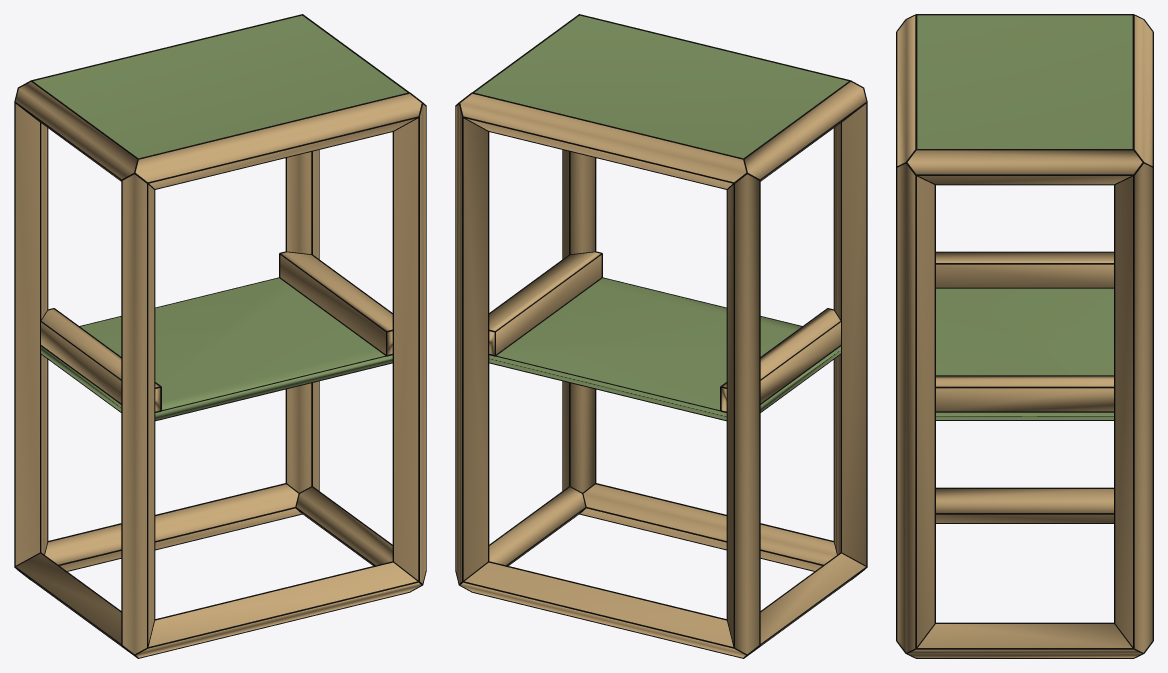
Rendered from bureau-500.glb.
The picture shows the model from 3 angles, left to right: view 1: azimuth 30°, elevation 25°; view 2: azimuth 150°, elevation 25°; view 3: azimuth 270°, elevation 25°; orthographic projection.
Parts seen in each view (by area): view 1: panneau-dessus_exterieur, tablette-plate-mod-0, arete-Z0, arete-Z1, arete-Z2, arete-X2, arete-X0, arete-X1, arete-Z3, tablette-traverse-right-mod-0, tablette-traverse-left-mod-0, arete-Y2 (+15 smaller); view 2: panneau-dessus_exterieur, tablette-plate-mod-0, arete-Z2, arete-Z3, arete-Z0, arete-X3, arete-X1, arete-X0, arete-Z1, tablette-traverse-right-mod-0, tablette-traverse-left-mod-0, arete-Y2 (+15 smaller); view 3: panneau-dessus_exterieur, arete-Z1, arete-Z3, tablette-plate-mod-0, arete-Y3, arete-Y1, tablette-traverse-left-mod-0, tablette-traverse-right-mod-0, arete-Y0, arete-wire-Z1, arete-wire-Z3, arete-X2 (+9 smaller).
Part boxes in pixels (box(x1,y1,x2,y2)): panneau-dessus_exterieur: box(33, 15, 407, 158); tablette-plate-mod-0: box(41, 278, 392, 420); arete-Z0: box(122, 174, 154, 654); arete-Z1: box(394, 104, 425, 583); arete-Z2: box(15, 104, 47, 565); arete-X2: box(135, 93, 421, 188); arete-X0: box(136, 562, 421, 657); arete-X1: box(45, 484, 301, 570); arete-Z3: box(287, 150, 318, 492); tablette-traverse-right-mod-0: box(280, 252, 392, 354); tablette-traverse-left-mod-0: box(41, 309, 160, 411); arete-Y2: box(15, 82, 137, 180); panneau-dessus_exterieur: box(474, 15, 848, 158); tablette-plate-mod-0: box(489, 278, 840, 420); arete-Z2: box(727, 174, 759, 654); arete-Z3: box(456, 104, 487, 583); arete-Z0: box(834, 104, 866, 565); arete-X3: box(460, 93, 746, 188); arete-X1: box(460, 562, 745, 657); arete-X0: box(580, 484, 836, 570); arete-Z1: box(563, 150, 594, 492); tablette-traverse-right-mod-0: box(489, 252, 601, 354); tablette-traverse-left-mod-0: box(721, 309, 840, 411); arete-Y2: box(744, 82, 866, 180); panneau-dessus_exterieur: box(917, 15, 1132, 148); arete-Z1: box(897, 163, 934, 652); arete-Z3: box(1115, 163, 1152, 652); tablette-plate-mod-0: box(936, 288, 1113, 419); arete-Y3: box(907, 150, 1142, 184); arete-Y1: box(908, 624, 1141, 657); tablette-traverse-left-mod-0: box(936, 252, 1113, 287); tablette-traverse-right-mod-0: box(936, 376, 1113, 411); arete-Y0: box(936, 489, 1113, 522); arete-wire-Z1: box(896, 162, 935, 648); arete-wire-Z3: box(1114, 167, 1153, 648); arete-X2: box(897, 16, 915, 165).
Bounding box in the file's own units: 0.5309 × 0.8309 × 0.3809.
